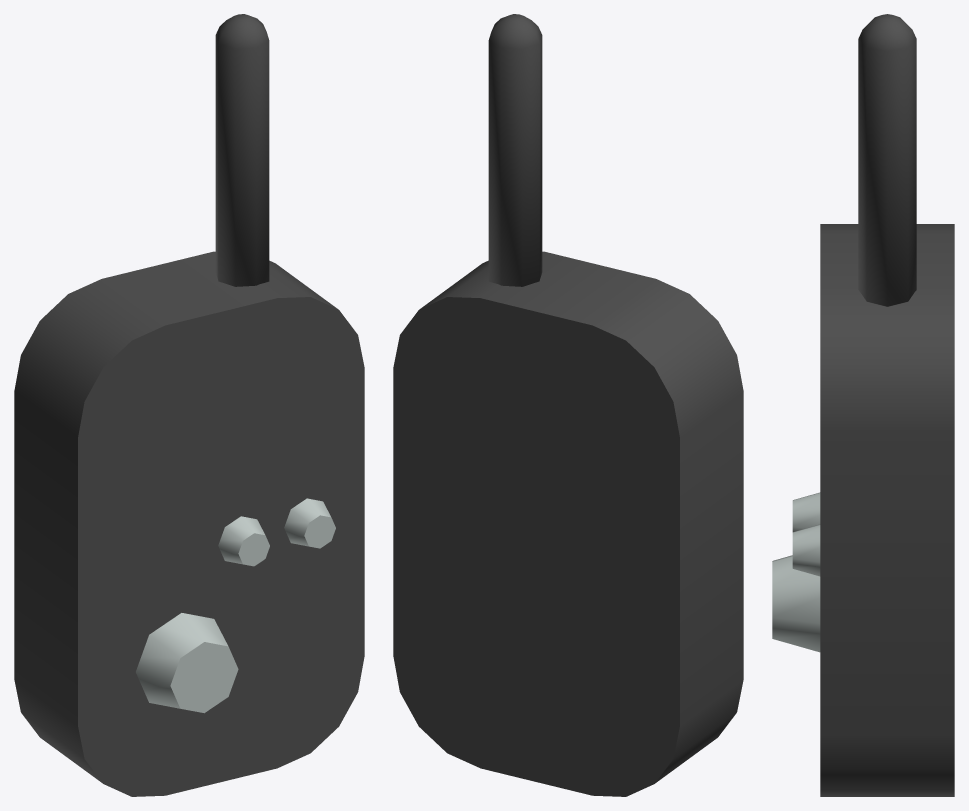
File: Radio Station.fbx
3 views of the same model, side by side, from view 1: azimuth 30°, elevation 25°; view 2: azimuth 150°, elevation 25°; view 3: azimuth 270°, elevation 25° (orthographic). The views are drawn at different scales.
Parts seen in each view (by area): view 1: Radio Station; view 2: Radio Station; view 3: Radio Station.
Boxes of the visible parts, x1,y1,x2,y2 form: Radio Station: [14, 14, 364, 796]; Radio Station: [393, 14, 743, 796]; Radio Station: [772, 14, 954, 796].
Bounding box in the file's own units: 0.2915 × 0.7078 × 0.1522.
